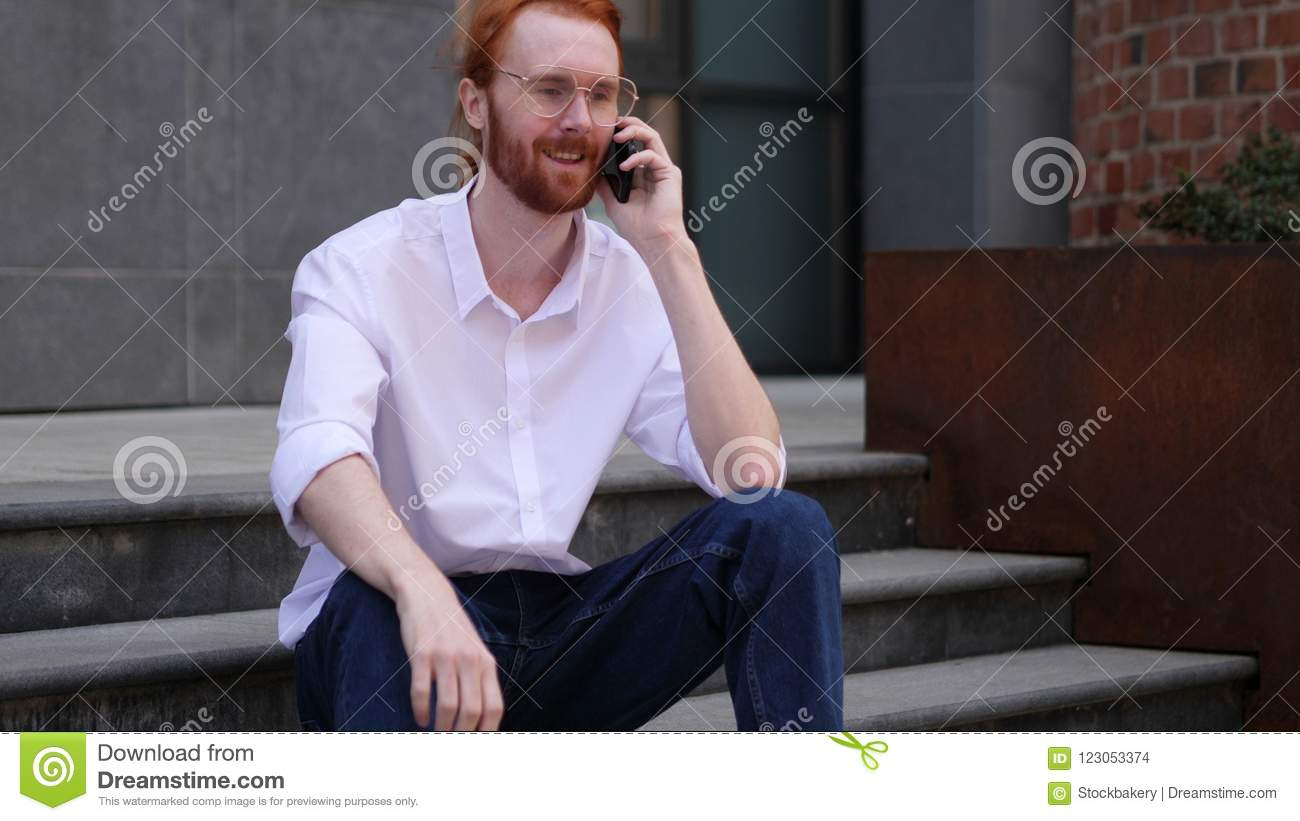phone: (600, 125, 642, 212)
talk: (515, 61, 678, 248)
